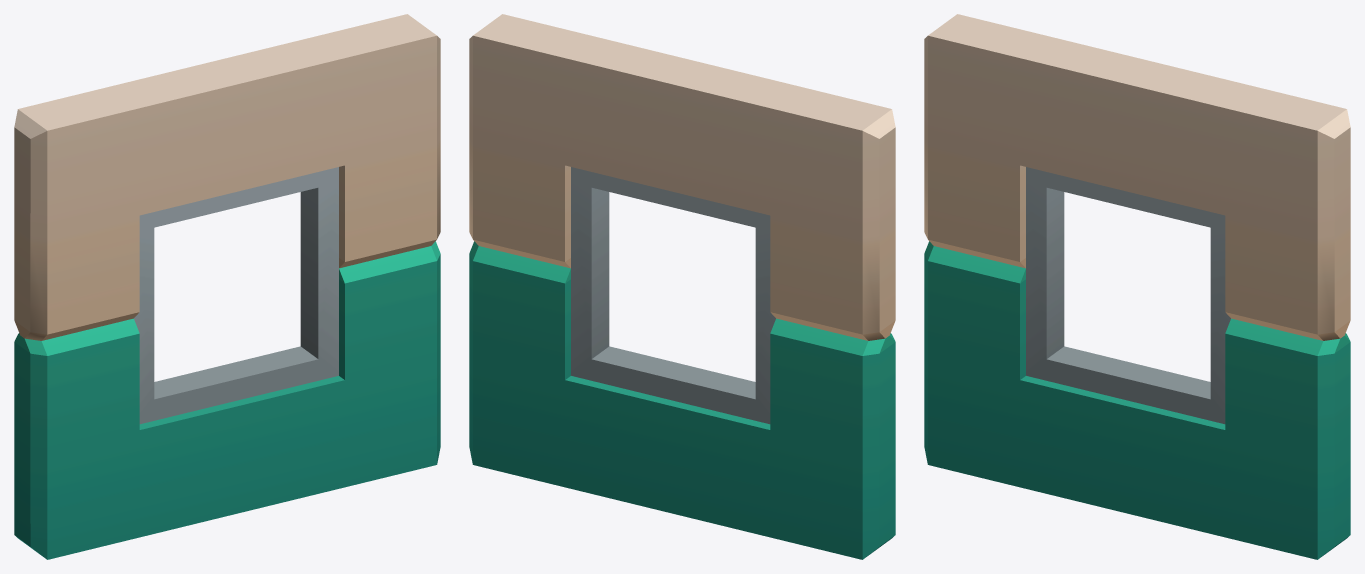
Rendered from wall_window_ope_n.glb.
3 views of the same model, side by side, from view 1: azimuth 30°, elevation 25°; view 2: azimuth 150°, elevation 25°; view 3: azimuth 330°, elevation 25° (orthographic).
Parts seen in each view (by area): view 1: wall_window_open; view 2: wall_window_open; view 3: wall_window_open.
Part boxes in pixels (x1,y1,x2,y2): wall_window_open: (14,14,440,559); wall_window_open: (469,14,895,559); wall_window_open: (924,14,1350,559).
Bounding box in the file's own units: 4 × 4 × 0.5.
Materials: 1 (1 with a texture image).
